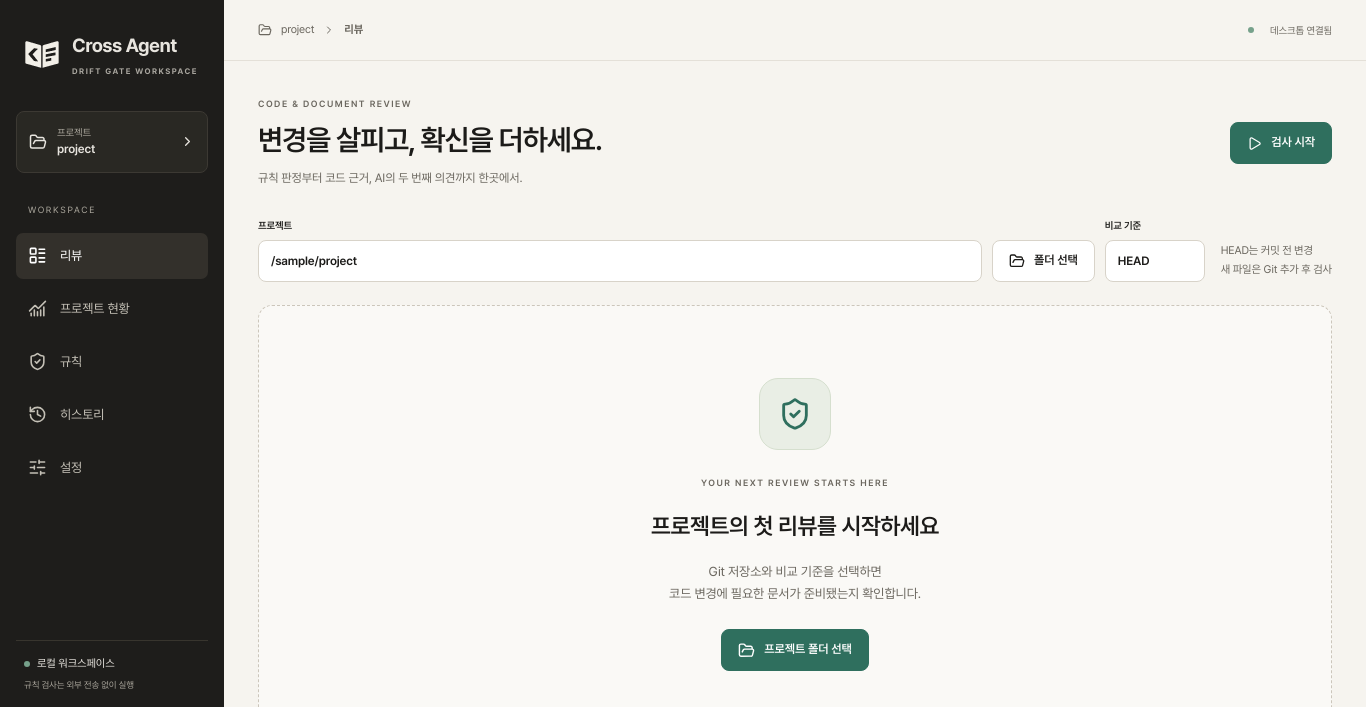
Test: shows what changed since the last save and the list of saved states
The image size is (1366, 707).
Click the button "프로젝트 현황" at (112, 309), box [16,286,208,332]
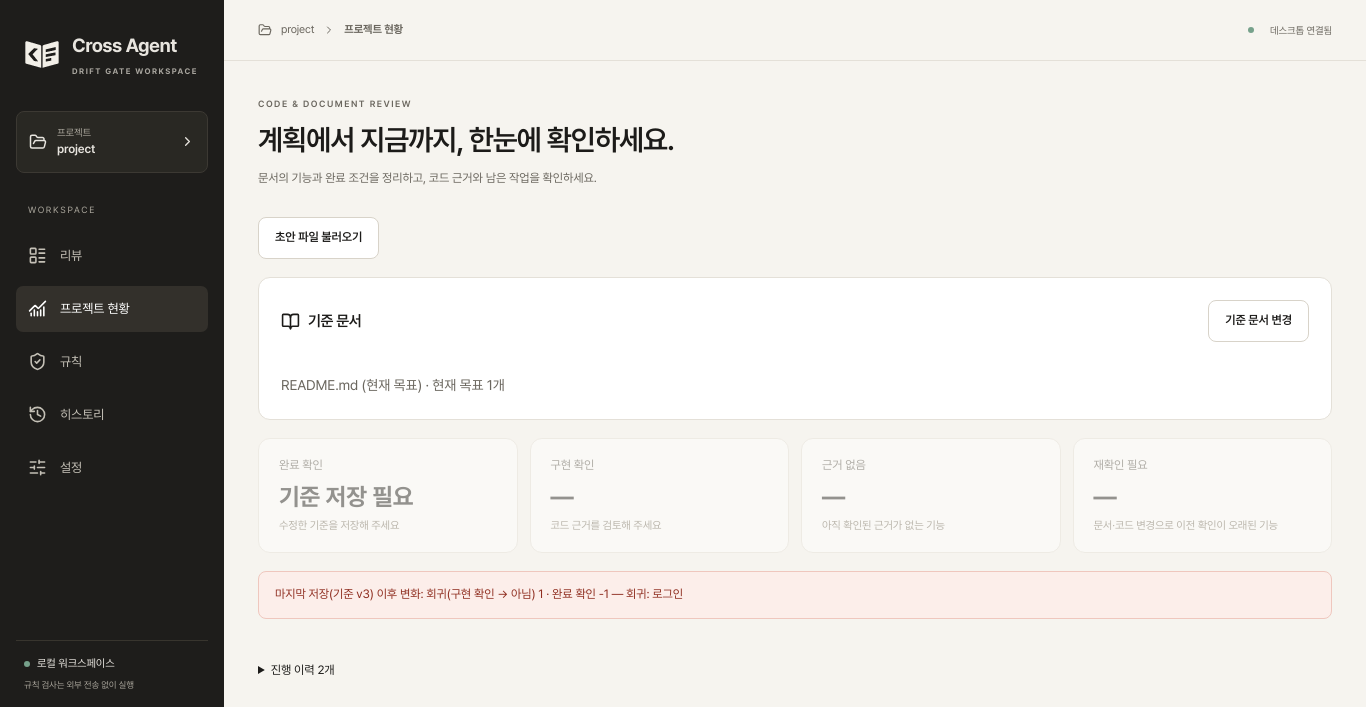
Expected: the text "마지막 저장(기준 v3) 이후 변화: 회귀(구현 확인 → 아님) 1 · 완료 확인 -1 — 회귀: 로그인" is shown, [258,572,1332,619]
Expected: the heading "진행 이력 2개" is shown, [271,663,334,677]
